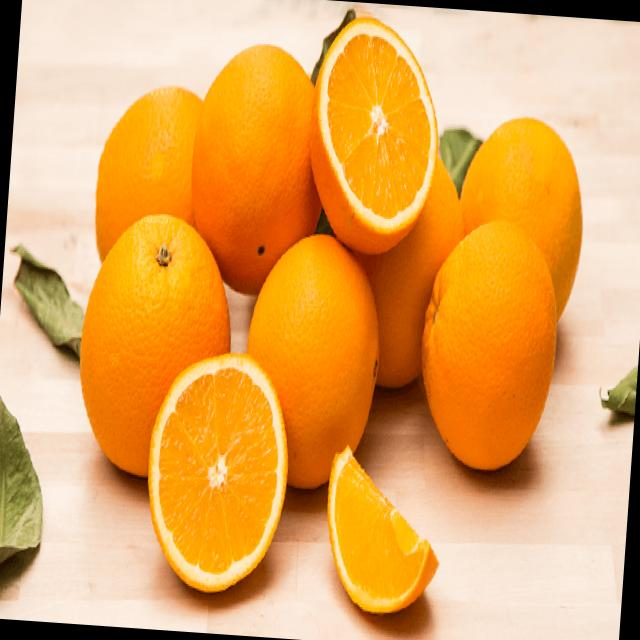orange: (72, 214, 235, 479), (236, 235, 384, 500), (414, 239, 562, 486), (188, 56, 332, 274), (454, 126, 596, 320), (90, 79, 206, 264)
